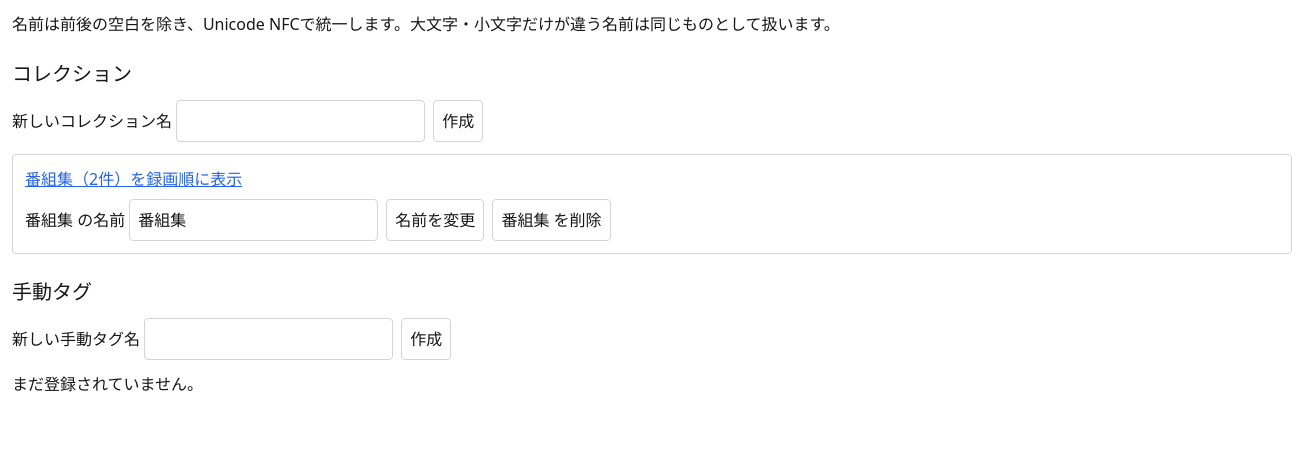
shows a duplicate error and retains the editable form
Type "tag" into the field labelled "新しい手動タグ名" at [269, 339], box 144,318 -> 393,360
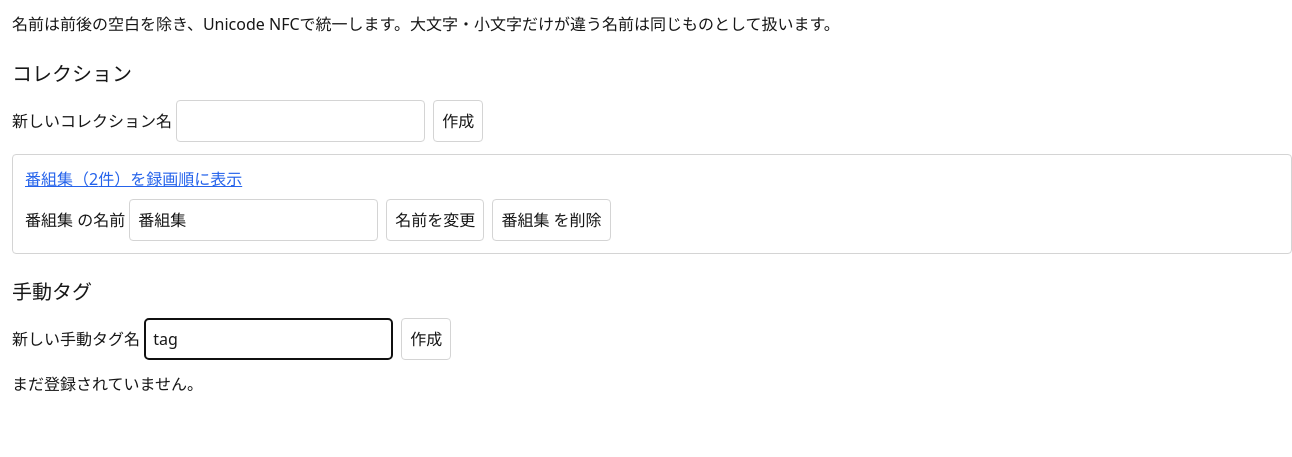
Click the 2nd button "作成" at [426, 339], box 401,318 -> 451,360
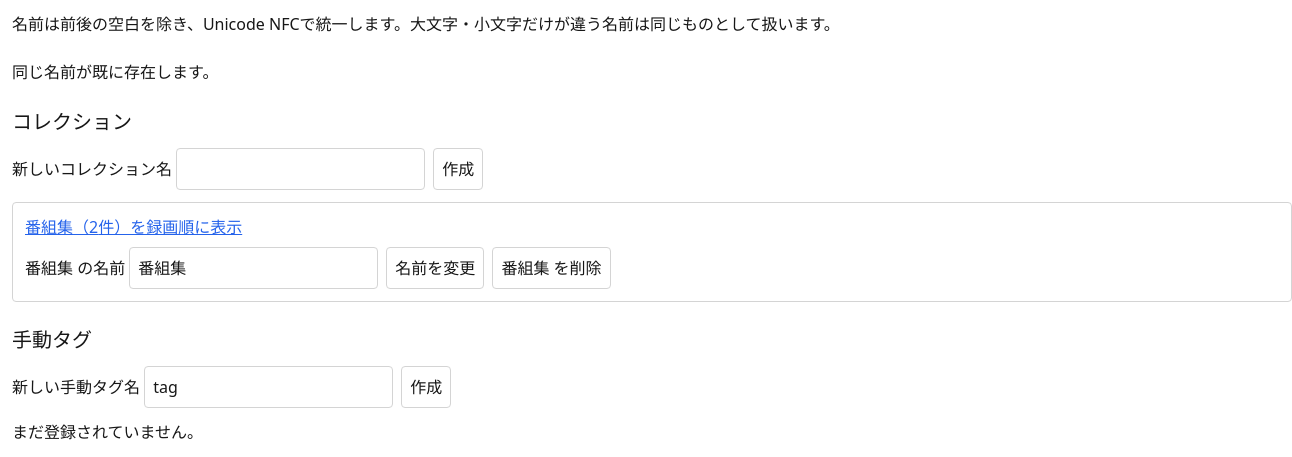
Check: the message shows "同じ名前", box 12,61 -> 218,83
